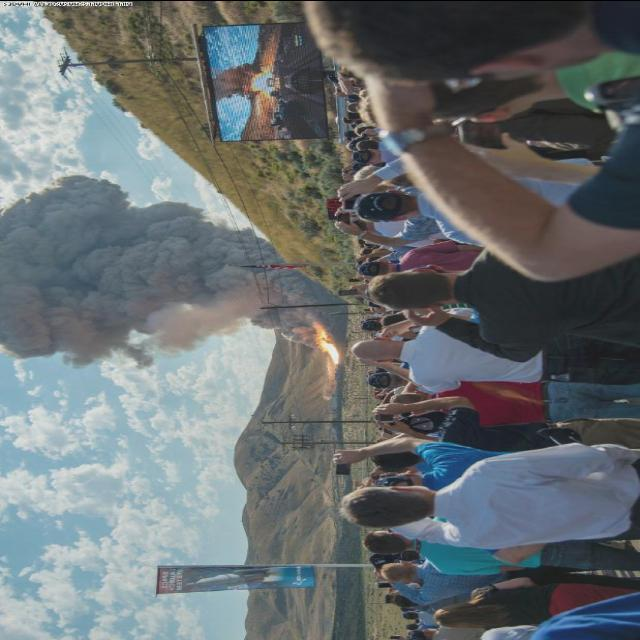Fire: (313, 324, 340, 362)
